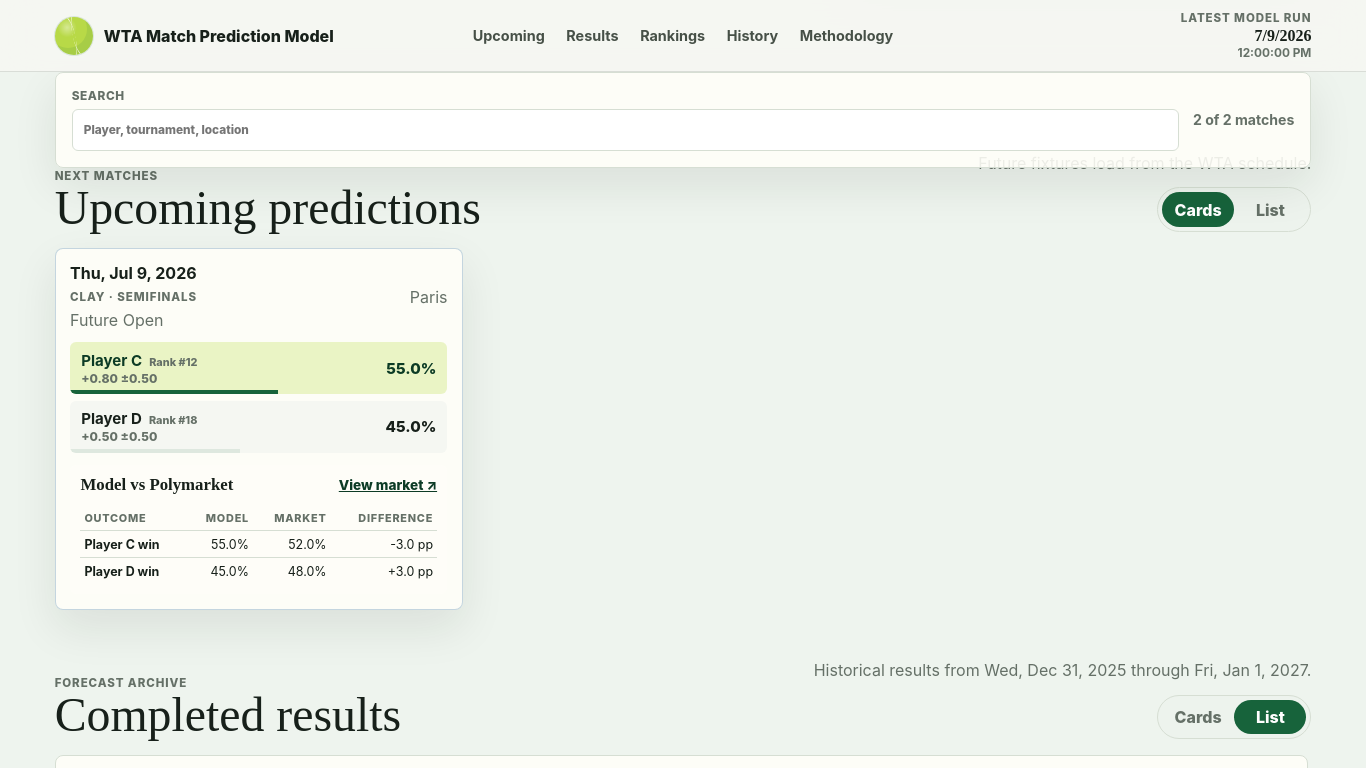
App › shows player ranks without repeated skill blocks in the match drawer
(page scrolled)
Expected: the heading "Upcoming predictions" is shown, [55,184,481,232]
Click the element named "Player C versus Player D": (259, 429) [55,248,463,610]
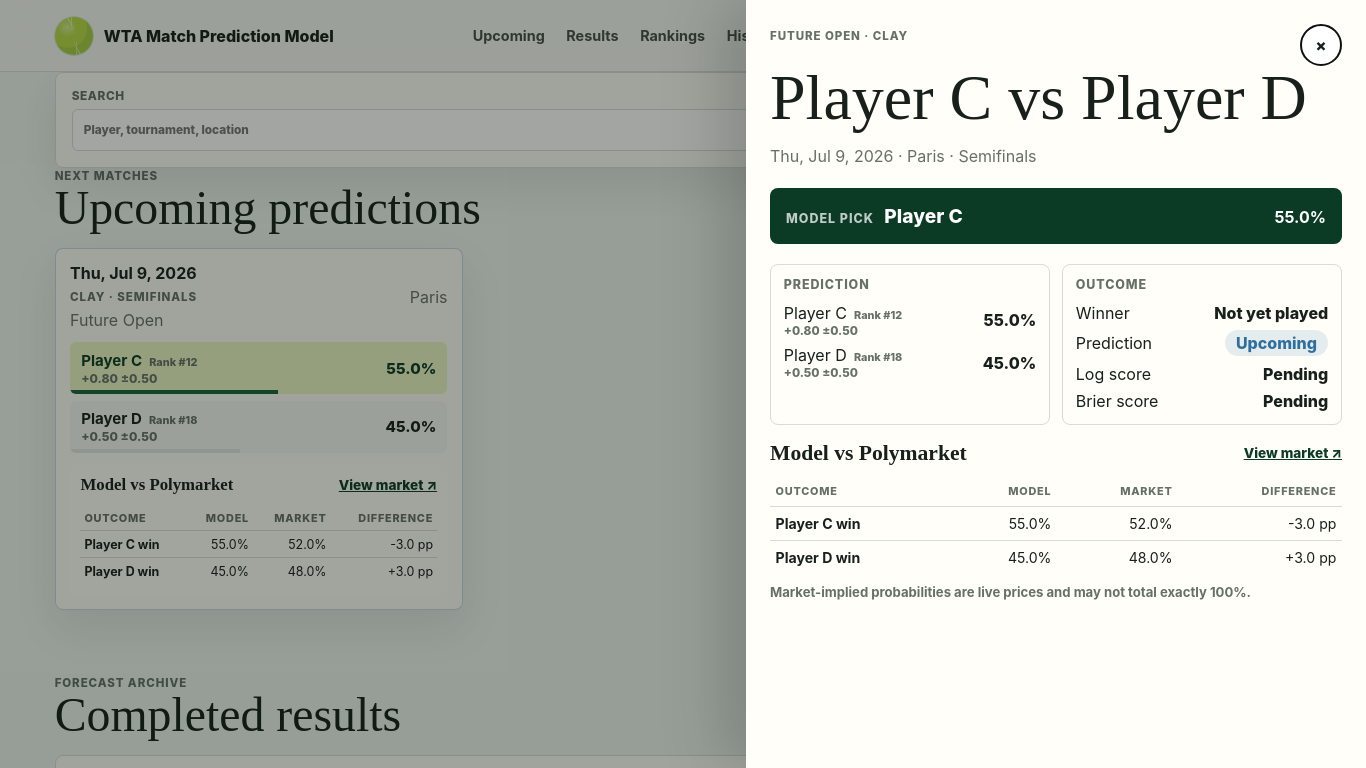
Expected: the dialog "Player C vs Player D" is shown, [746,0,1365,767]
Press Shift+Tab
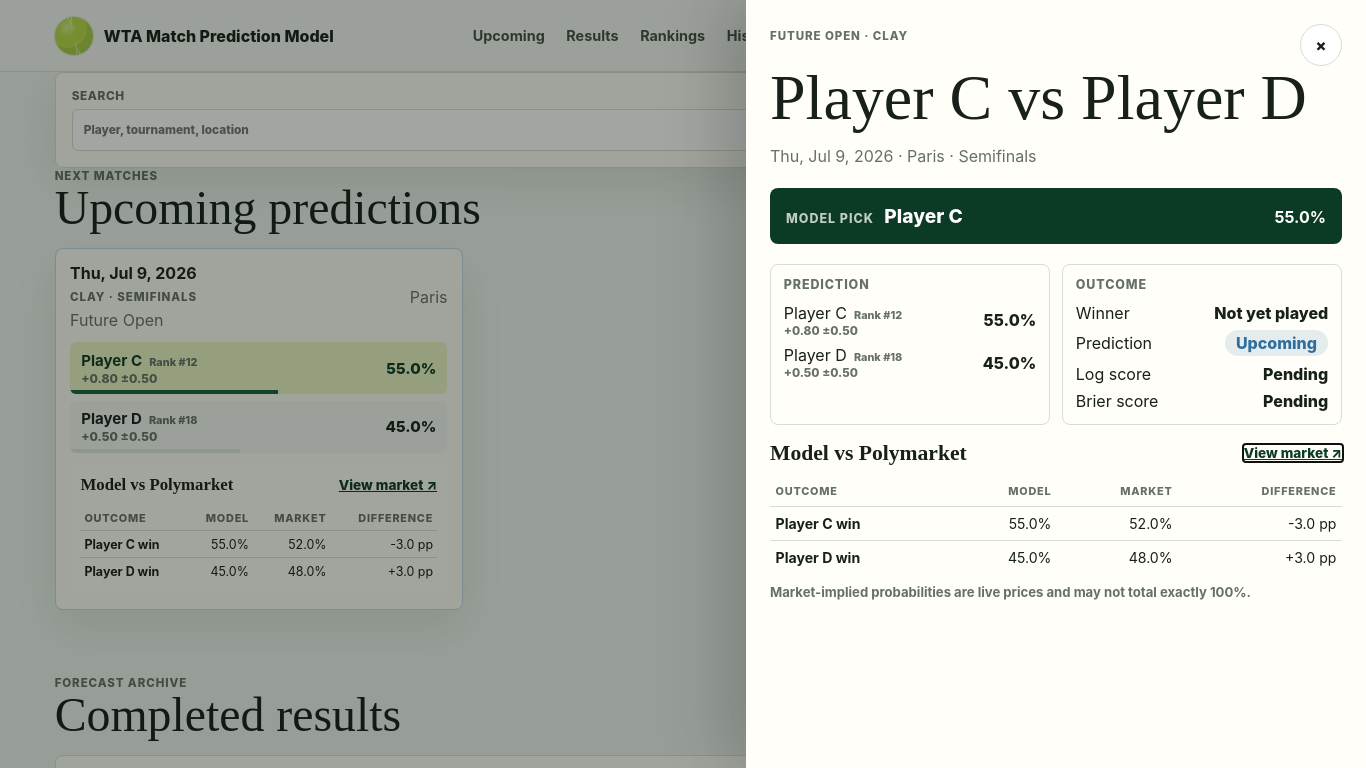
Press Tab in the link "View market ↗", box [1244,445,1342,461]
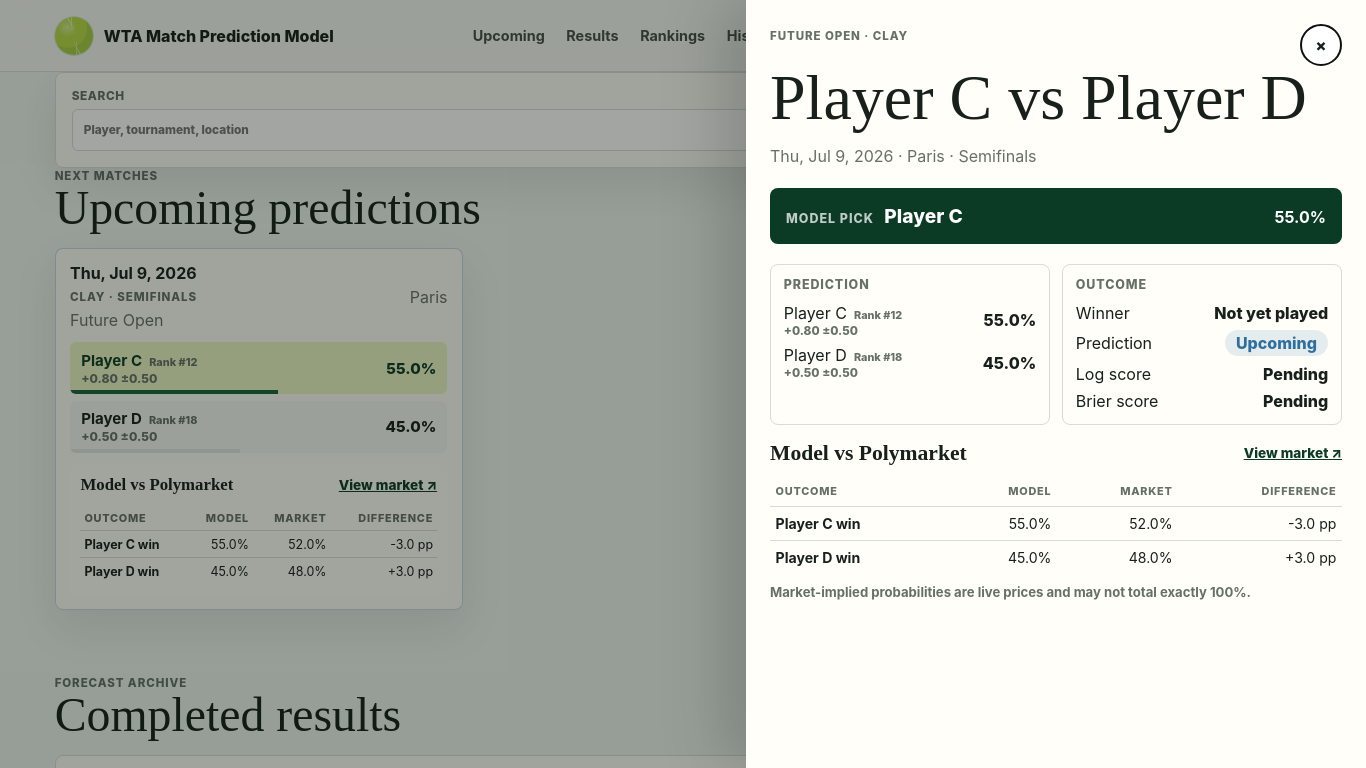
Expected: the text "Rank #12" is shown, [854,308,902,322]
Expected: the text "Rank #18" is shown, [854,350,902,364]
Expected: the heading "Prediction" is shown, [784,277,870,292]
Press Escape
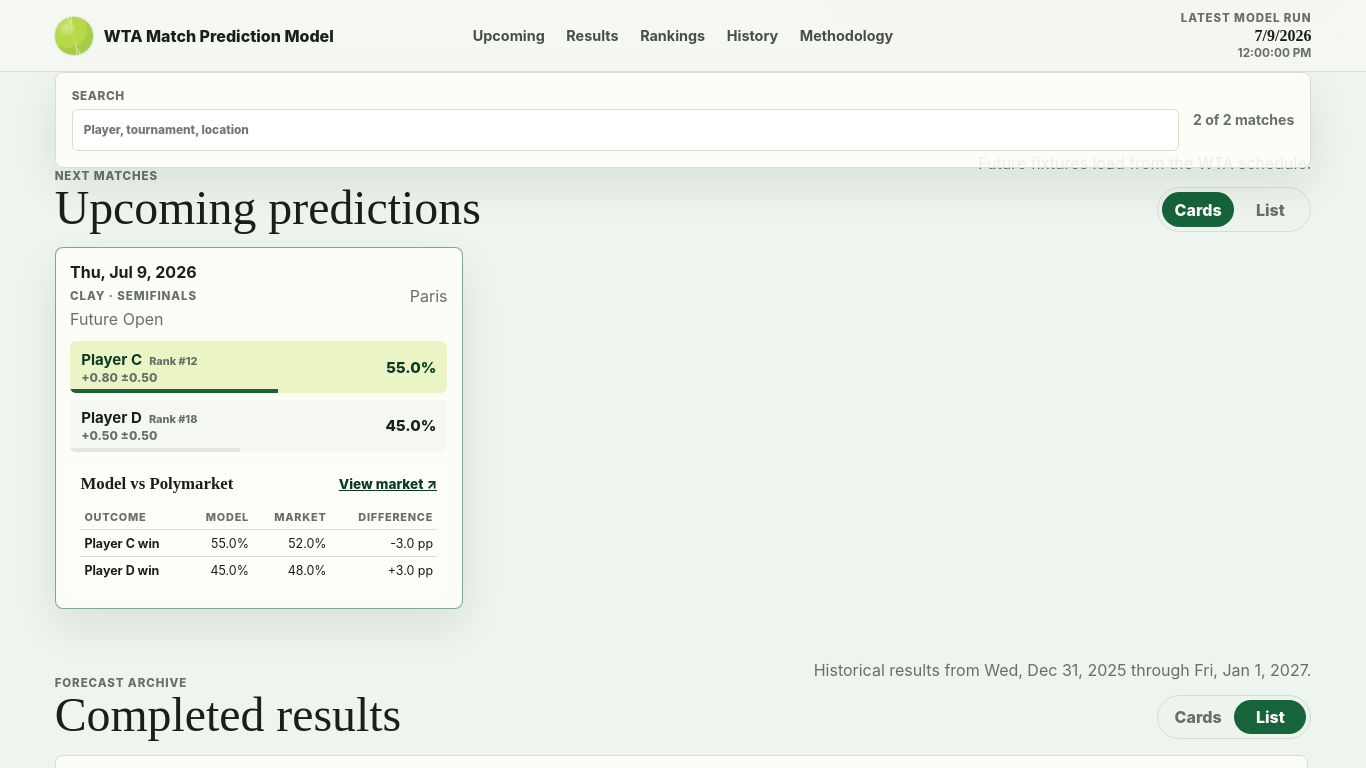
Expected: the heading "Player C vs Player D" is gone
